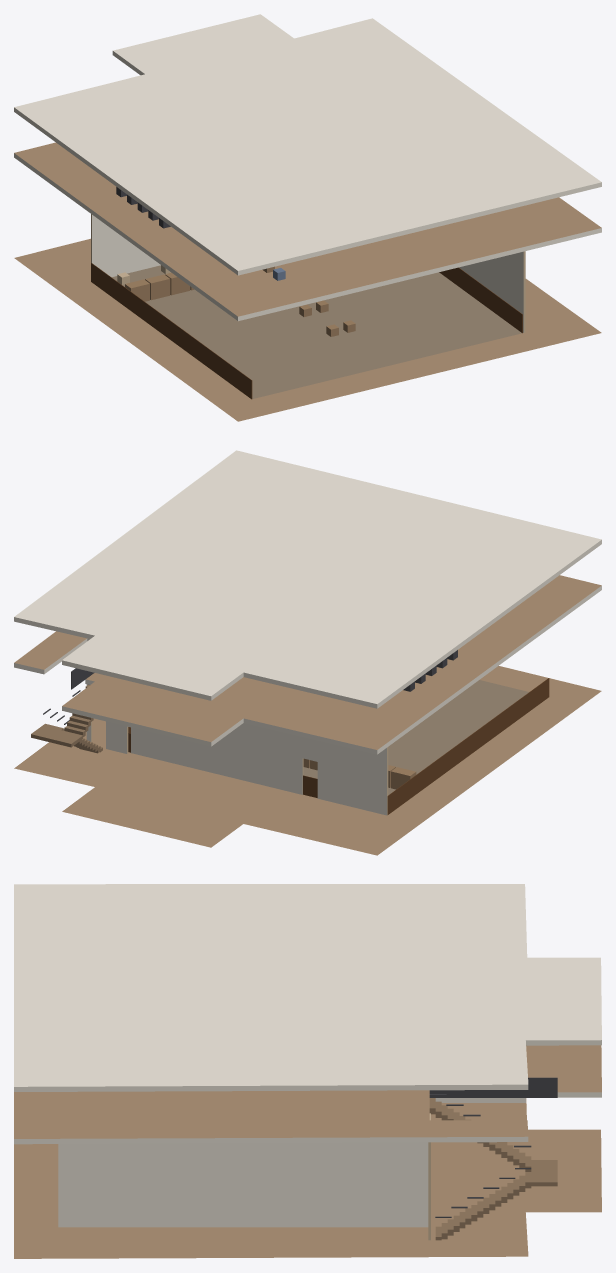
File: interior.glb
3 views of the same model, one above another, from view 1: azimuth 30°, elevation 25°; view 2: azimuth 150°, elevation 25°; view 3: azimuth 270°, elevation 25° (orthographic). The views are drawn at different scales.
Visible parts, largest first — view 1: slabs, bank-hall-finish, partitions, coarse-s0, coarse-s1; view 2: slabs, partitions, bank-hall-finish, stair, coarse-s0; view 3: slabs, partitions, stair.
Boxes of the visible parts, x1,y1,x2,y2 form: slabs: (14, 14, 601, 421); bank-hall-finish: (91, 263, 522, 399); partitions: (91, 214, 525, 332); coarse-s0: (117, 265, 355, 336); coarse-s1: (116, 187, 285, 280); slabs: (14, 450, 601, 855); partitions: (86, 684, 388, 815); bank-hall-finish: (128, 678, 549, 814); stair: (31, 668, 102, 753); coarse-s0: (303, 758, 416, 789); slabs: (14, 884, 601, 1258); partitions: (58, 1113, 430, 1240); stair: (429, 1077, 557, 1240).
Bounding box in the file's own units: 21.69 × 8.6 × 26.57.
